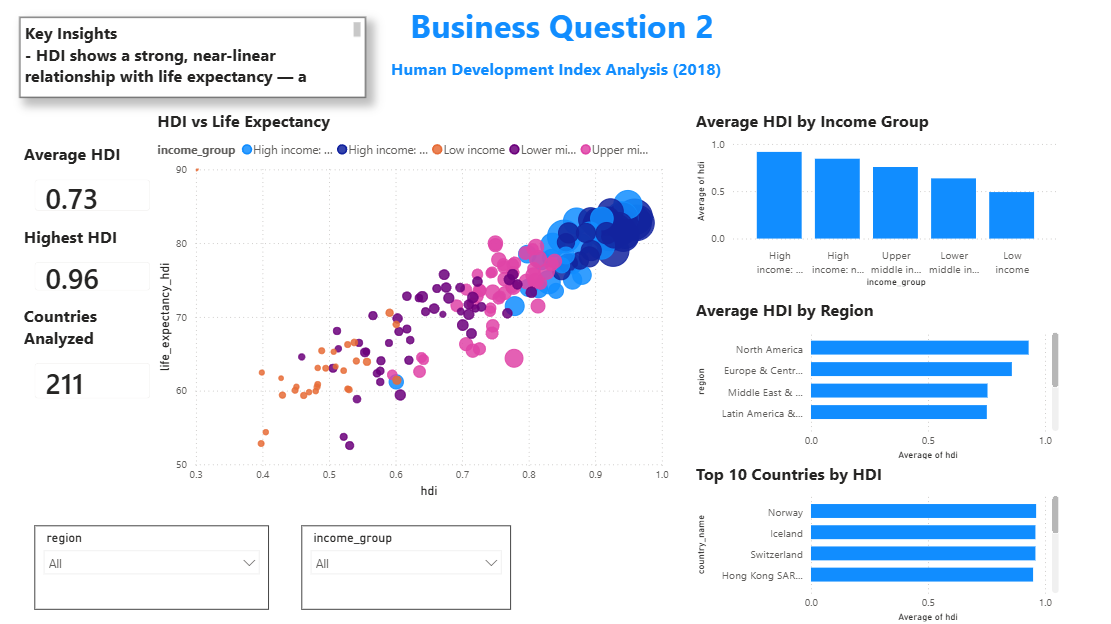

The dashboard page shown, as its layout file describes it:
{"tool":"powerbi","page":{"name":"Business Question 2","canvas":[1280,720],"ordinal":2},"visuals":[{"type":"textbox","box":[11.7,0,1268.6,62.8],"z":0},{"type":"textbox","box":[5.8,62.8,1268.6,38],"z":1000},{"type":"slicer","fields":{"Values":["world_economic_indicators dim_country.region"]},"box":[39.4,605.7,269.5,96.9],"z":2000},{"type":"slicer","fields":{"Values":["world_economic_indicators dim_country.income_group"]},"box":[346.8,605.7,240.8,96.9],"z":3000},{"type":"cardVisual","title":"Average HDI","fields":{"Data":["Avg(world_economic_indicators fact_country_year.hdi)"]},"box":[22.5,165,167.5,95],"z":4000},{"type":"cardVisual","title":"Highest HDI","fields":{"Data":["Max(world_economic_indicators fact_country_year.hdi)"]},"box":[22.5,260,167.5,92.5],"z":5000},{"type":"cardVisual","title":"Countries Analyzed","fields":{"Data":["Count(world_economic_indicators dim_country.country_name)"]},"box":[22.5,352.5,167.5,125],"z":6000},{"type":"clusteredBarChart","title":"Average HDI by Region","fields":{"Category":["world_economic_indicators dim_country.region"],"Y":["Avg(world_economic_indicators fact_country_year.hdi)"]},"box":[795,345.2,427,189.3],"z":7000},{"type":"clusteredColumnChart","title":"Average HDI by Income Group","fields":{"Category":["world_economic_indicators dim_country.income_group"],"Y":["Avg(world_economic_indicators fact_country_year.hdi)"]},"box":[795,127.2,427,207.4],"z":8000},{"type":"scatterChart","title":"HDI vs Life Expectancy","fields":{"X":["world_economic_indicators fact_country_year.hdi"],"Y":["world_economic_indicators fact_country_year.life_expectancy_hdi"],"Series":["world_economic_indicators dim_country.income_group"],"Size":["Avg(world_economic_indicators fact_country_year.gdp_per_capita)"]},"box":[175,127.5,597.5,450],"z":9000},{"type":"clusteredBarChart","title":"Top 10 Countries by HDI","fields":{"Category":["world_economic_indicators dim_country.country_name"],"Y":["Avg(world_economic_indicators fact_country_year.hdi)"]},"box":[795,533,427,187.8],"z":10000},{"type":"textbox","box":[22.7,21.2,398.2,92.4],"z":11000}]}

Visuals, with their boxes in screenshot pixels (x1, y1, x2, y2), scaled from the page's 1280x720 canvas onto the 1111x624 screenshot:
textbox: locate(10, 0, 1110, 54)
textbox: locate(5, 54, 1106, 87)
slicer - world_economic_indicators dim_country.region: locate(34, 525, 268, 609)
slicer - world_economic_indicators dim_country.income_group: locate(301, 525, 510, 609)
"Average HDI" cardVisual: locate(20, 143, 165, 225)
"Highest HDI" cardVisual: locate(20, 225, 165, 306)
"Countries Analyzed" cardVisual: locate(20, 306, 165, 414)
"Average HDI by Region" clusteredBarChart: locate(690, 299, 1061, 463)
"Average HDI by Income Group" clusteredColumnChart: locate(690, 110, 1061, 290)
"HDI vs Life Expectancy" scatterChart: locate(152, 110, 671, 500)
"Top 10 Countries by HDI" clusteredBarChart: locate(690, 462, 1061, 623)
textbox: locate(20, 18, 365, 98)
